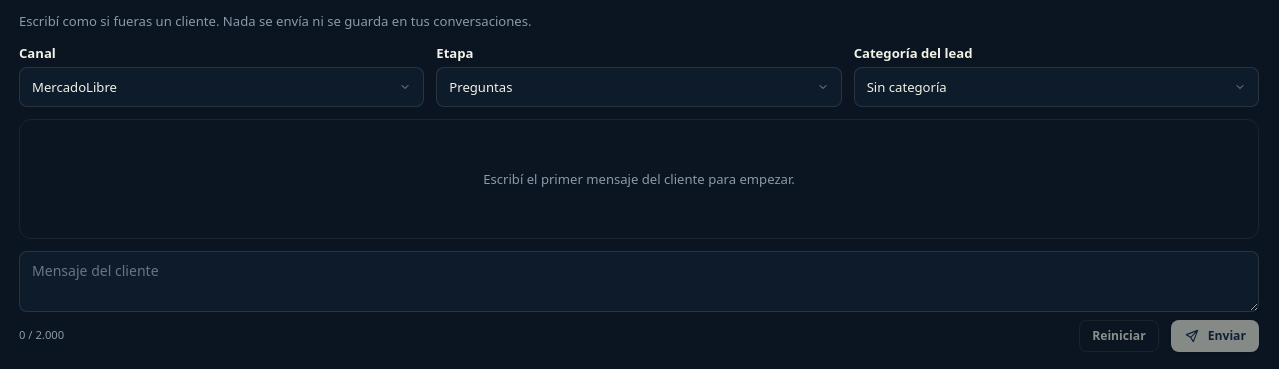
Test: Playground › keeps the missing plan message for a 402 without a plan
Type "¿Tienen stock?" into the text box with placeholder "Mensaje del cliente" at (639, 282), box [19, 251, 1259, 312]
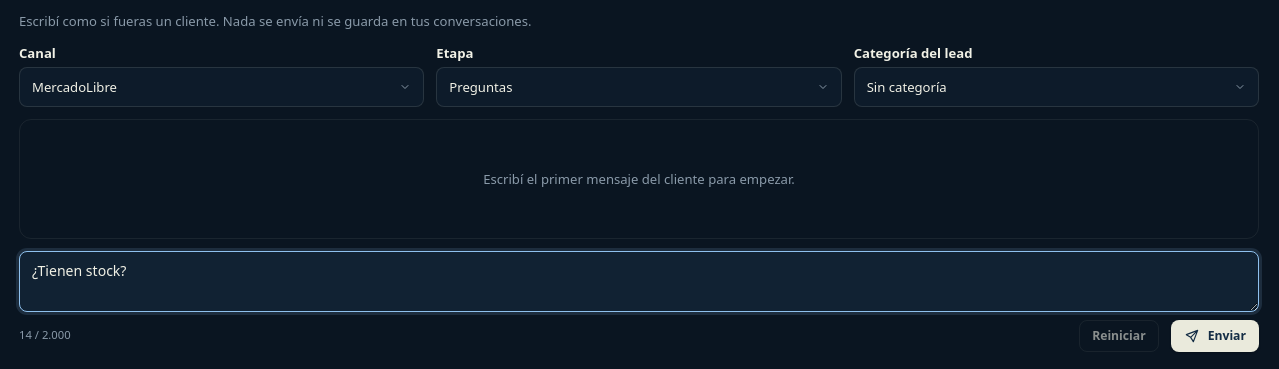
Click the button "Enviar" at (1215, 336), box [1171, 320, 1259, 352]
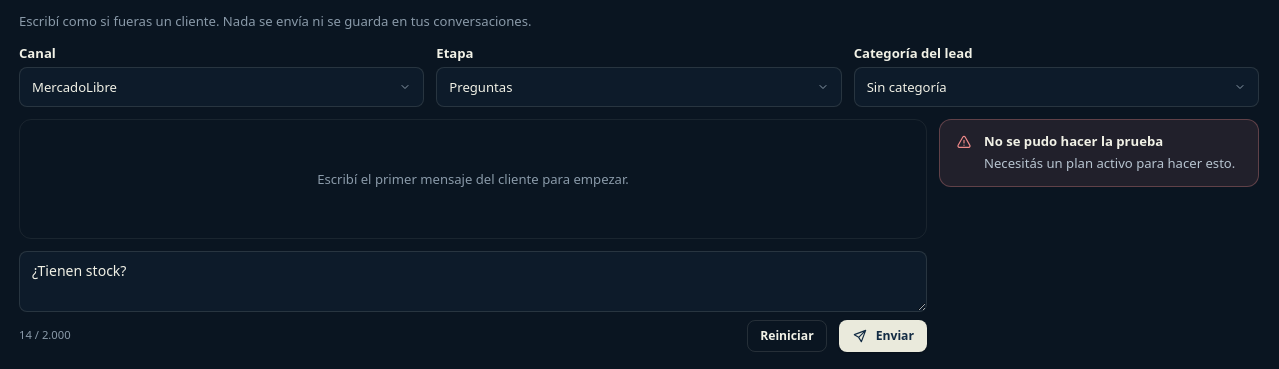
Check: the text "Necesitás un plan activo para hacer esto." is shown, box [984, 154, 1242, 174]
